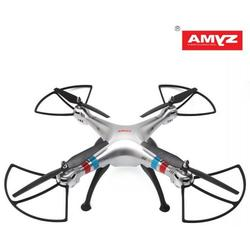drone: (4, 83, 246, 224)
